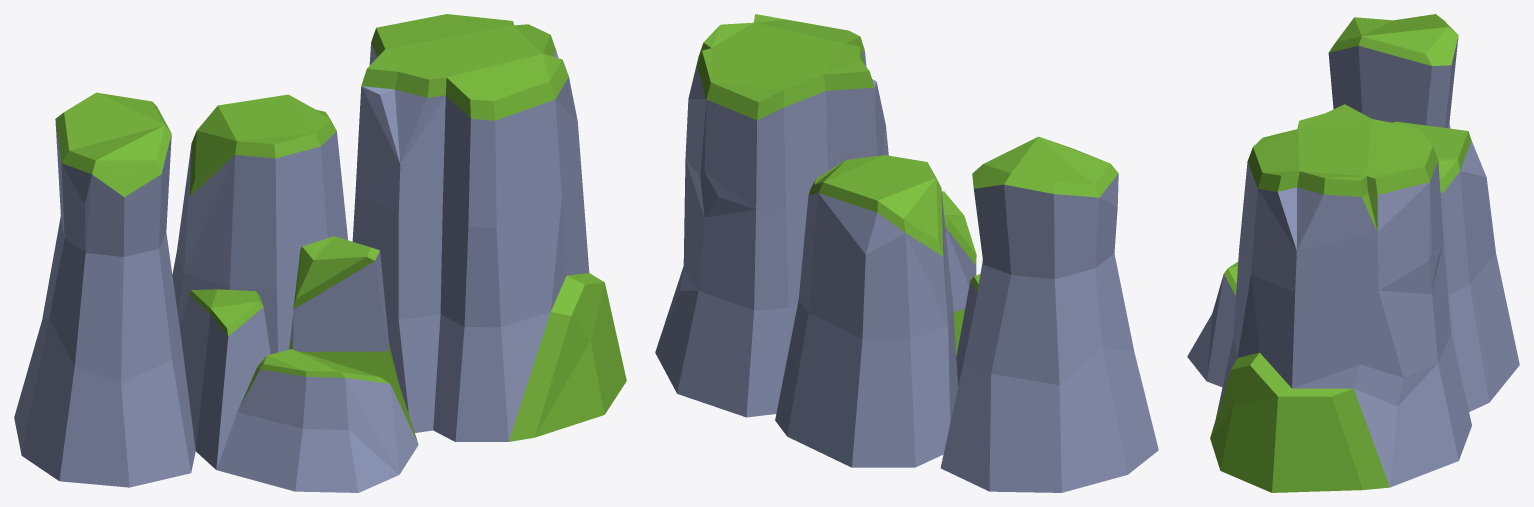
File: Rock_7_1.fbx
3 views of the same model, side by side, from view 1: azimuth 30°, elevation 25°; view 2: azimuth 150°, elevation 25°; view 3: azimuth 270°, elevation 25° (orthographic). The views are drawn at different scales.
Parts seen in each view (by area): view 1: Rock_7_1; view 2: Rock_7_1; view 3: Rock_7_1.
Boxes of the visible parts, x1,y1,x2,y2 form: Rock_7_1: (14, 14, 626, 492); Rock_7_1: (655, 14, 1158, 492); Rock_7_1: (1187, 14, 1519, 492).
Size of the model in its own units: 8.05 by 4.91 by 4.97.
